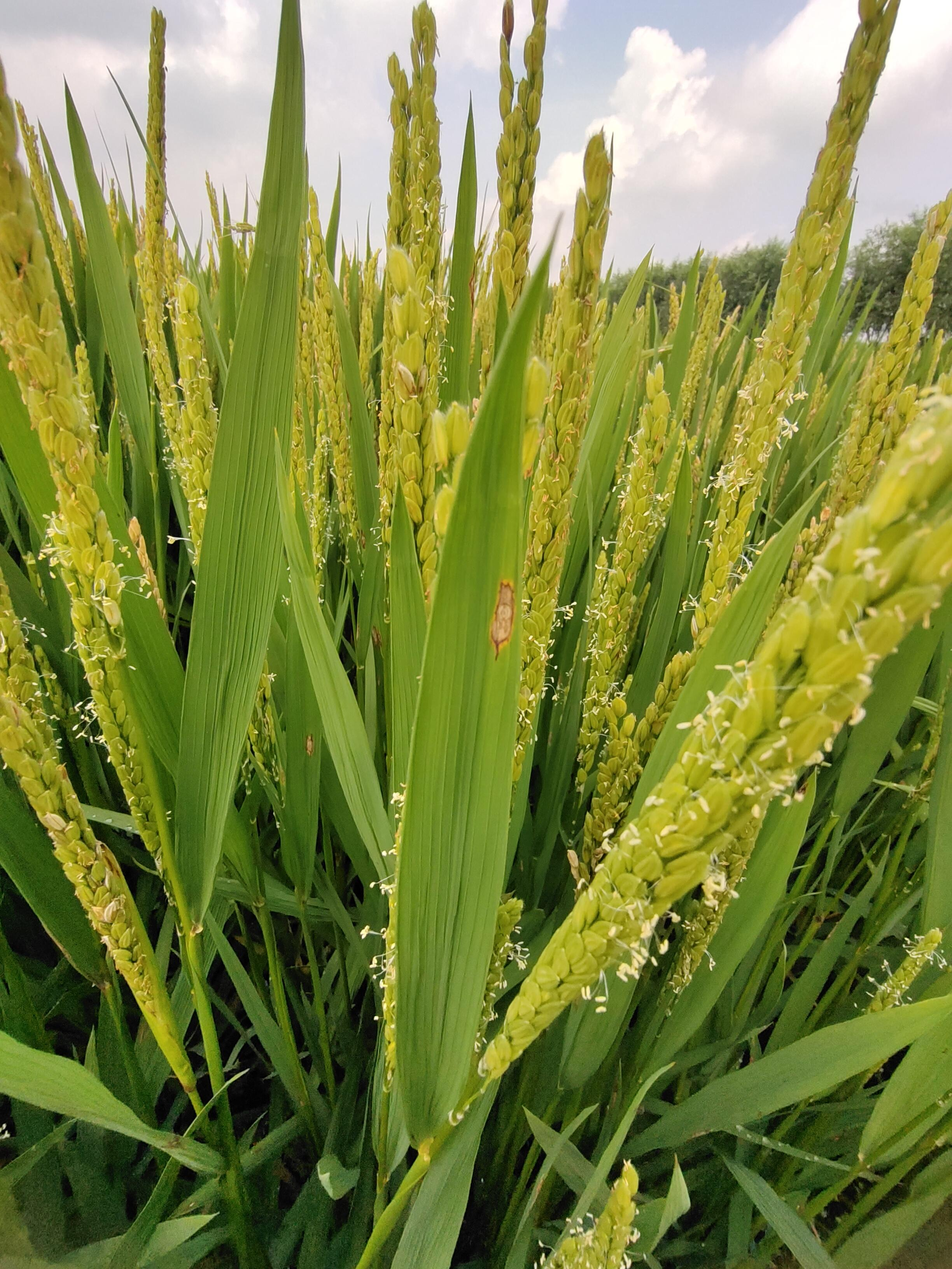LEAF BLAST: (490, 580, 514, 657)
